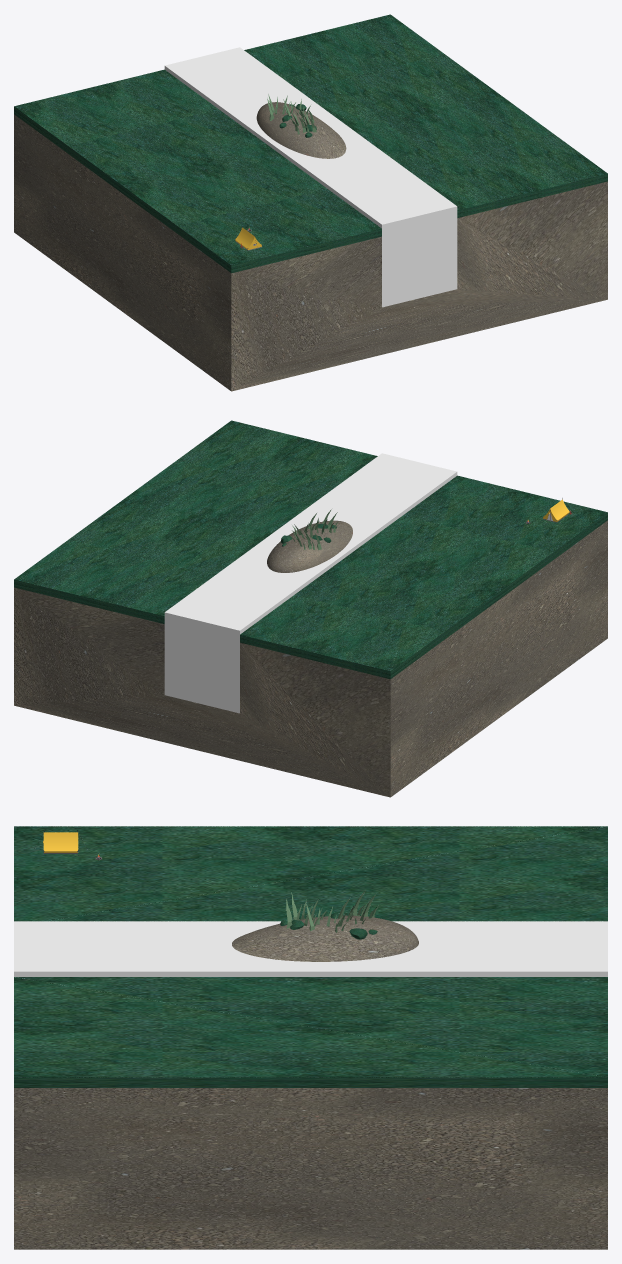
The model's file is filter-basin.obj.
The picture shows the model from 3 angles, top to bottom: view 1: azimuth 30°, elevation 25°; view 2: azimuth 150°, elevation 25°; view 3: azimuth 270°, elevation 25°; orthographic projection. The views are drawn at different scales.
Visible parts, largest first — view 1: 002_Box_1_&_Box_2, 003_Box_&_Box_3_&_Box_4, 001_water, 000_Sphere; view 2: 002_Box_1_&_Box_2, 003_Box_&_Box_3_&_Box_4, 001_water, 000_Sphere; view 3: 002_Box_1_&_Box_2, 003_Box_&_Box_3_&_Box_4, 001_water, 000_Sphere, 014_Tent_01.
Boxes of the visible parts, x1,y1,x2,y2 form: 002_Box_1_&_Box_2: [14, 14, 607, 273]; 003_Box_&_Box_3_&_Box_4: [14, 114, 607, 391]; 001_water: [164, 47, 457, 307]; 000_Sphere: [256, 102, 346, 158]; 002_Box_1_&_Box_2: [14, 420, 607, 679]; 003_Box_&_Box_3_&_Box_4: [14, 520, 607, 797]; 001_water: [164, 453, 457, 713]; 000_Sphere: [267, 520, 352, 572]; 002_Box_1_&_Box_2: [14, 826, 607, 1087]; 003_Box_&_Box_3_&_Box_4: [14, 1088, 607, 1249]; 001_water: [14, 921, 607, 976]; 000_Sphere: [232, 915, 418, 961]; 014_Tent_01: [43, 832, 78, 852].
Size of the model in its own units: 100 by 40.64 by 100.
